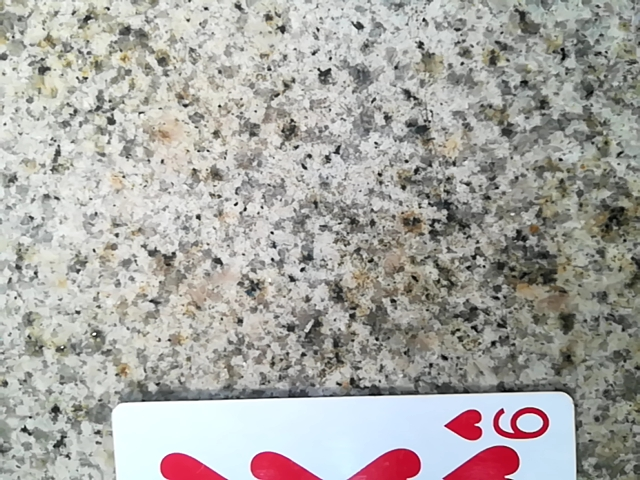hx 9: (90, 396, 602, 480)
